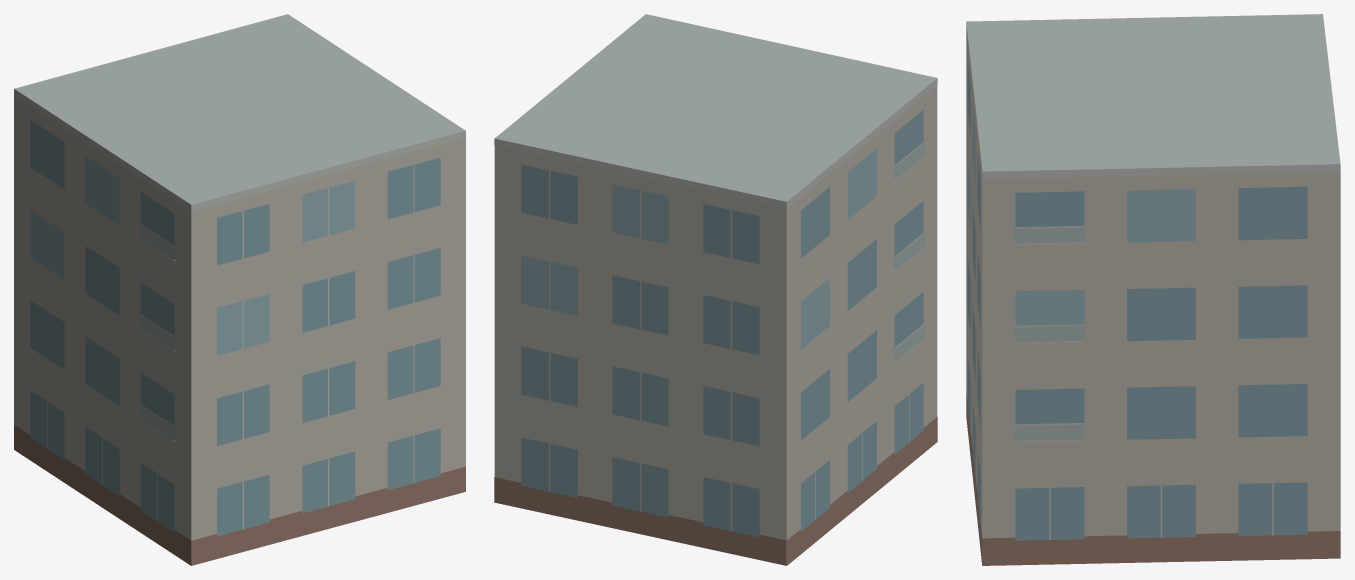
Rendered from survey-upis-32804169.glb.
3 renders of one model, left to right at view 1: azimuth 30°, elevation 25°; view 2: azimuth 150°, elevation 25°; view 3: azimuth 270°, elevation 25°, orthographic. The views are drawn at different scales.
Visible parts, largest first — view 1: survey-upis-32804169.tmp; view 2: survey-upis-32804169.tmp; view 3: survey-upis-32804169.tmp.
Part boxes in pixels (box(x1,y1,x2,y2)): survey-upis-32804169.tmp: box(14, 14, 465, 565); survey-upis-32804169.tmp: box(494, 14, 937, 565); survey-upis-32804169.tmp: box(966, 14, 1340, 565).
Size of the model in its own units: 11.03 by 12.86 by 11.08.
